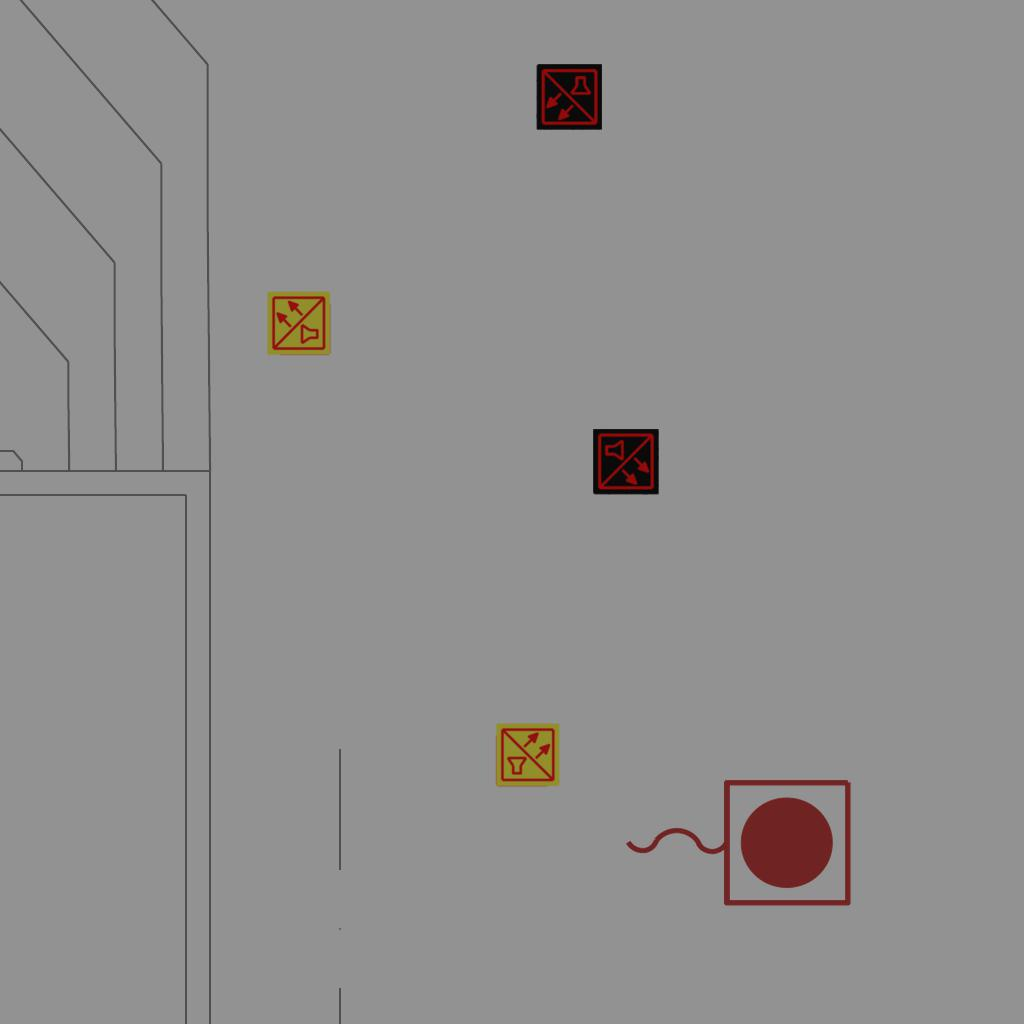OKW_Multisensormelder_(Kombination_optischer_Rauch-Kahlenmonoxid_Waerme-Melder): (266, 290, 332, 356), (536, 64, 602, 130), (495, 722, 561, 788), (593, 429, 659, 495)
Zugtaster: (615, 769, 859, 913)
